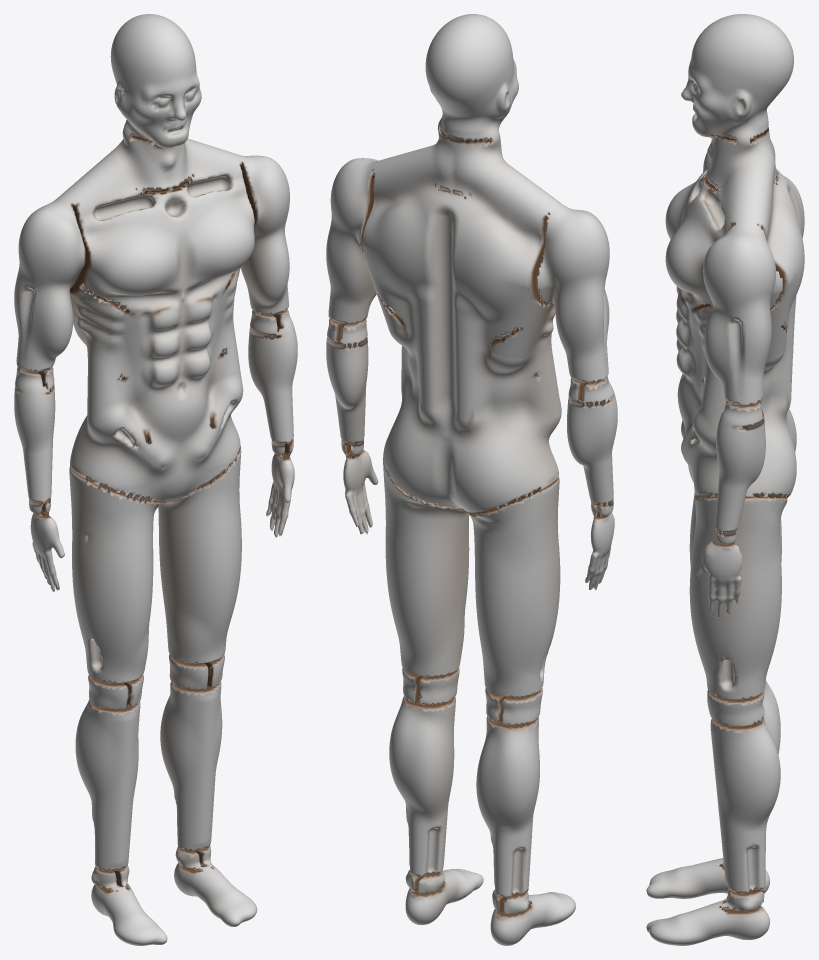
Rendered from mannequin-male.glb.
3 views of the same model, side by side, from view 1: azimuth 30°, elevation 25°; view 2: azimuth 150°, elevation 25°; view 3: azimuth 270°, elevation 25° (orthographic). The views are drawn at different scales.
Parts seen in each view (by area): view 1: WoodenHumanoidMannequin; view 2: WoodenHumanoidMannequin; view 3: WoodenHumanoidMannequin.
Part boxes in pixels (x1,y1,x2,y2): WoodenHumanoidMannequin: (14,14,297,945); WoodenHumanoidMannequin: (326,14,617,945); WoodenHumanoidMannequin: (646,14,804,945).
Bounding box in the file's own units: 0.5895 × 1.8 × 0.287.
